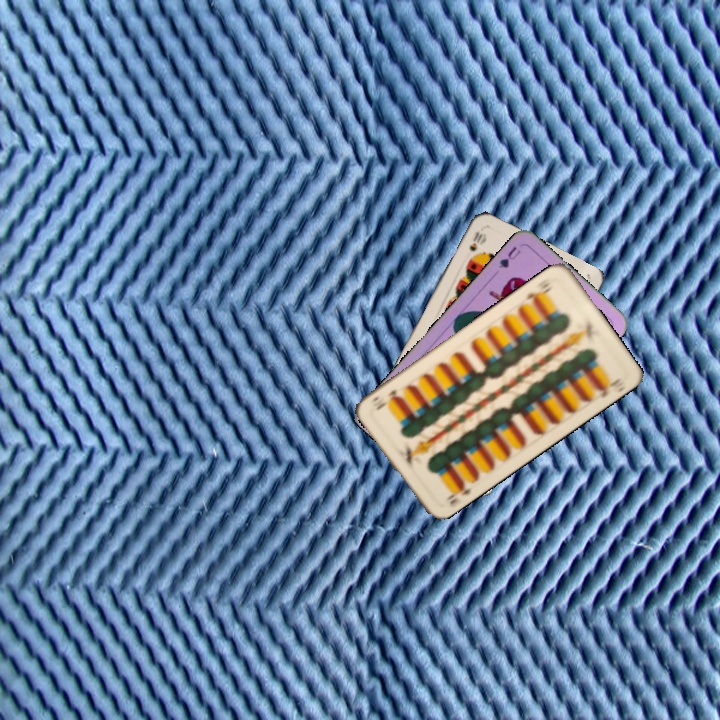E10: (442, 478, 475, 507), (522, 280, 555, 306)
GU: (495, 242, 523, 271)
S10: (465, 227, 485, 254)
